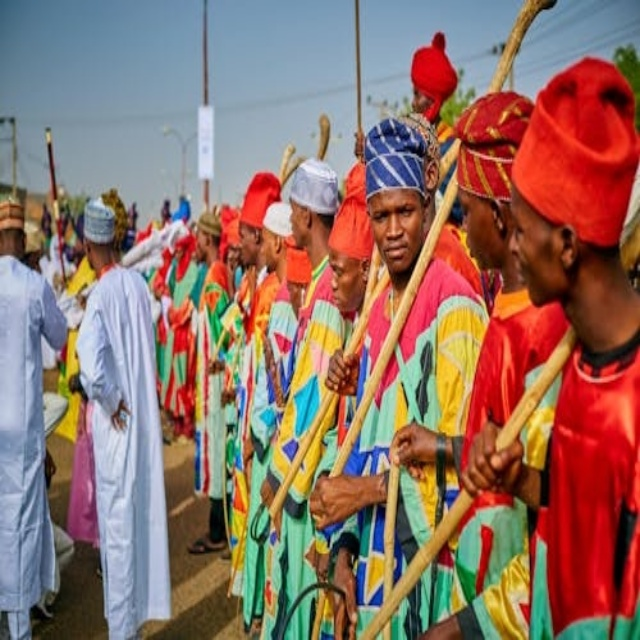Sin_gafas: (507, 200, 543, 250), (369, 196, 420, 231), (458, 192, 488, 233), (328, 258, 355, 288)
Sin_guantes: (461, 415, 531, 509), (387, 417, 447, 467), (306, 479, 374, 519), (328, 552, 364, 627), (323, 344, 366, 402)
Sin_mascara: (511, 250, 547, 298), (381, 236, 411, 267), (460, 231, 489, 263), (326, 288, 353, 313)
